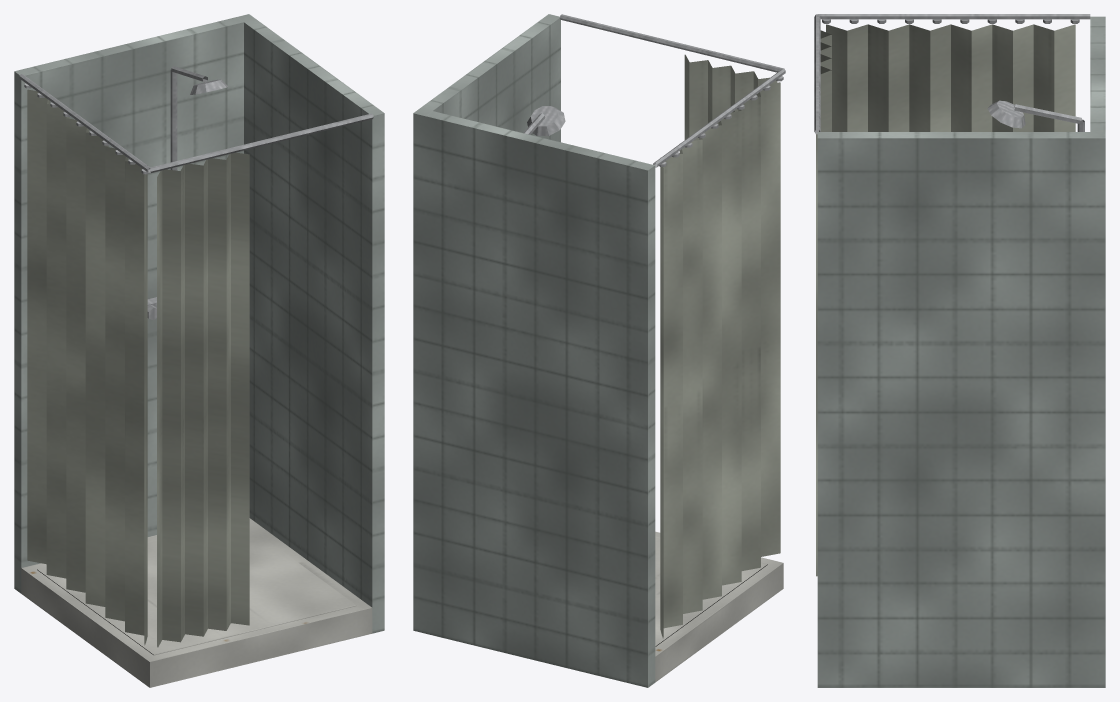
File: Shower.fbx
The picture shows the model from 3 angles, left to right: view 1: azimuth 30°, elevation 25°; view 2: azimuth 150°, elevation 25°; view 3: azimuth 270°, elevation 25°; orthographic projection. The views are drawn at different scales.
Visible parts, largest first — view 1: душевая кабинка; view 2: душевая кабинка; view 3: душевая кабинка.
Boxes of the visible parts, bbox=[...] form: душевая кабинка: bbox=[14, 14, 384, 687]; душевая кабинка: bbox=[413, 14, 785, 687]; душевая кабинка: bbox=[814, 14, 1105, 687].
Size of the model in its own units: 0.963 by 2.01 by 0.96.
Materials: 1 (1 with a texture image).
